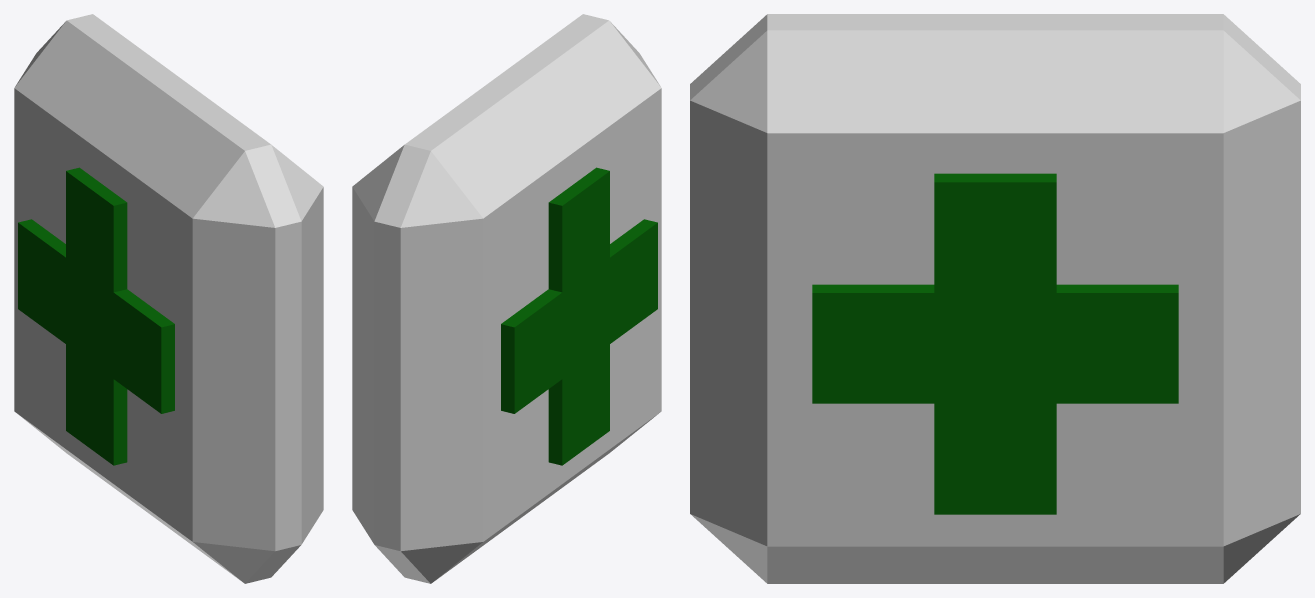
File: Pack_Health.fbx
3 renders of one model, left to right at view 1: azimuth 30°, elevation 25°; view 2: azimuth 150°, elevation 25°; view 3: azimuth 270°, elevation 25°, orthographic. The views are drawn at different scales.
Parts seen in each view (by area): view 1: Pack; view 2: Pack; view 3: Pack.
Boxes of the visible parts, left/top/right/bottom form: Pack: left=14, top=14, right=323, bottom=583; Pack: left=352, top=14, right=661, bottom=583; Pack: left=690, top=14, right=1300, bottom=583.
Size of the model in its own units: 0.9043 by 2.36 by 2.36.
